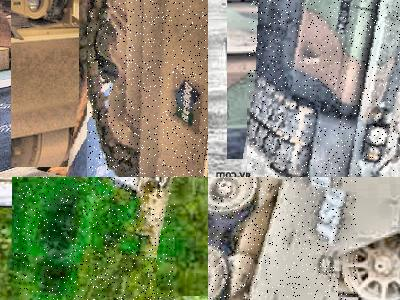tanks: (249, 1, 400, 178), (88, 1, 209, 178), (16, 178, 172, 300), (209, 178, 357, 300)
